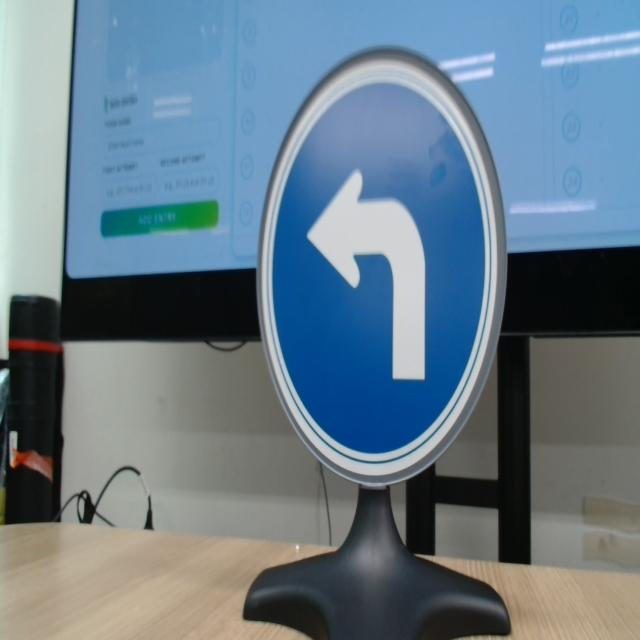left_direction: (252, 15, 513, 503)
